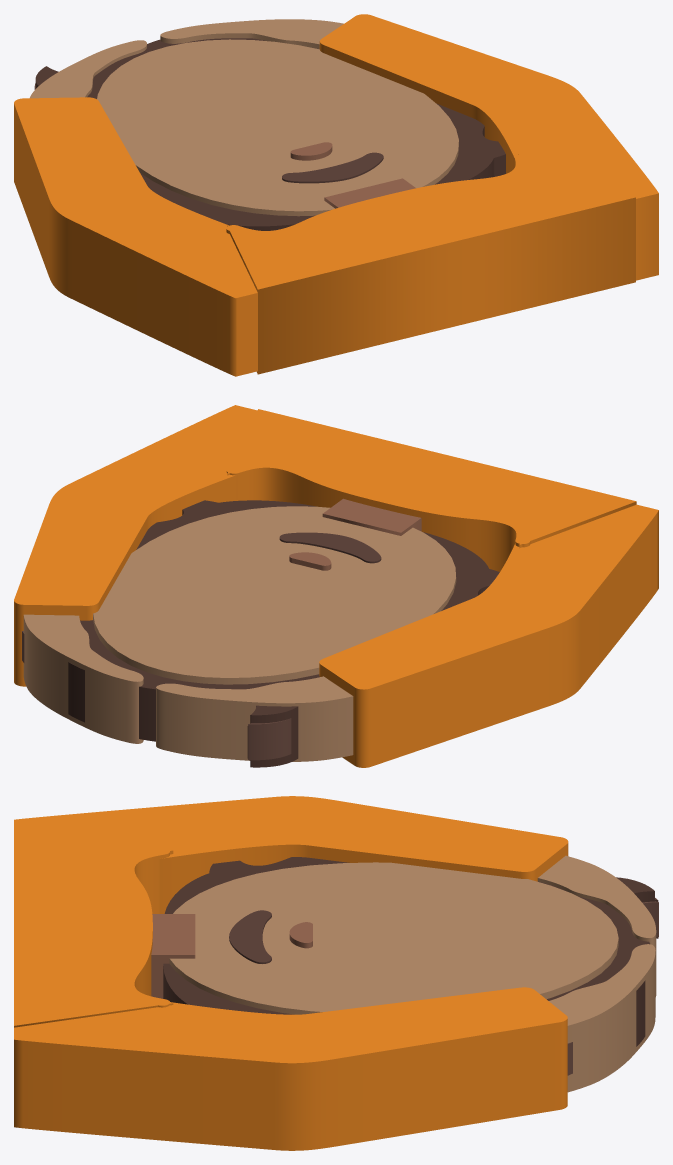
The model's file is emoji_u1f646_1f3fd.glb.
3 views of the same model, one above another, from view 1: azimuth 30°, elevation 25°; view 2: azimuth 150°, elevation 25°; view 3: azimuth 270°, elevation 25° (orthographic). The views are drawn at different scales.
Parts seen in each view (by area): view 1: emoji_u1f646_1f3fd; view 2: emoji_u1f646_1f3fd; view 3: emoji_u1f646_1f3fd.
Boxes of the visible parts, x1,y1,x2,y2 form: emoji_u1f646_1f3fd: [14, 14, 658, 376]; emoji_u1f646_1f3fd: [14, 405, 658, 767]; emoji_u1f646_1f3fd: [14, 796, 658, 1150].
Bounding box in the file's own units: 0.0329 × 0.0052 × 0.0333.
